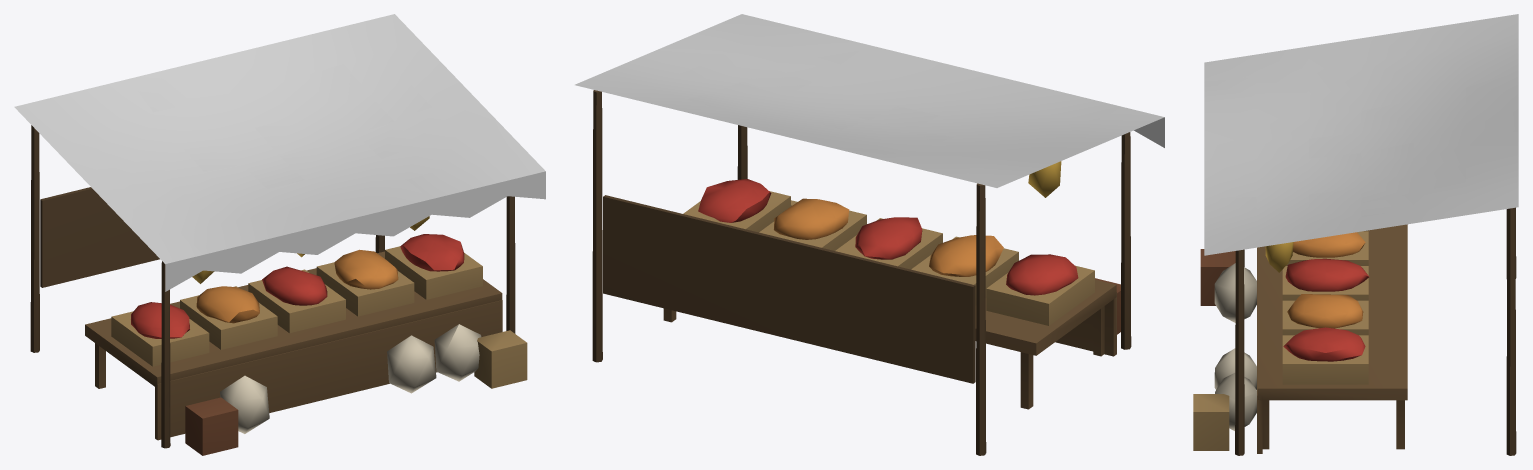
Rendered from oriental.glb.
The picture shows the model from 3 angles, left to right: view 1: azimuth 30°, elevation 25°; view 2: azimuth 150°, elevation 25°; view 3: azimuth 270°, elevation 25°; orthographic projection. The views are drawn at different scales.
Parts seen in each view (by area): view 1: lona-tinted, chinamo-wood, chinamo-crate, chinamo-wood-dark, goods-fff2d6, goods-d9473b, goods-f39c4a, goods-8e5a3c; view 2: lona-tinted, chinamo-wood-dark, chinamo-crate, goods-d9473b, chinamo-wood, goods-f39c4a, goods-f2c14e; view 3: lona-tinted, chinamo-wood, chinamo-crate, chinamo-wood-dark, goods-d9473b, goods-f39c4a, goods-fff2d6, goods-8e5a3c, goods-f2c14e.
Boxes of the visible parts, x1=… form: lona-tinted: x1=14, y1=14, x2=545, y2=291; chinamo-wood: x1=85, y1=251, x2=502, y2=440; chinamo-crate: x1=111, y1=246, x2=527, y2=388; chinamo-wood-dark: x1=30, y1=125, x2=515, y2=448; goods-fff2d6: x1=220, y1=324, x2=481, y2=433; goods-d9473b: x1=131, y1=234, x2=464, y2=338; goods-f39c4a: x1=196, y1=249, x2=398, y2=323; goods-8e5a3c: x1=185, y1=397, x2=238, y2=455; lona-tinted: x1=575, y1=14, x2=1164, y2=187; chinamo-wood-dark: x1=592, y1=90, x2=1131, y2=455; chinamo-crate: x1=683, y1=191, x2=1094, y2=325; goods-d9473b: x1=698, y1=179, x2=1078, y2=295; chinamo-wood: x1=663, y1=205, x2=1116, y2=409; goods-f39c4a: x1=774, y1=198, x2=1003, y2=276; goods-f2c14e: x1=1028, y1=161, x2=1061, y2=197; lona-tinted: x1=1204, y1=14, x2=1518, y2=255; chinamo-wood: x1=1257, y1=224, x2=1407, y2=453; chinamo-crate: x1=1193, y1=230, x2=1368, y2=450; chinamo-wood-dark: x1=1235, y1=207, x2=1516, y2=455; goods-d9473b: x1=1283, y1=258, x2=1369, y2=361; goods-f39c4a: x1=1287, y1=232, x2=1365, y2=328; goods-fff2d6: x1=1214, y1=263, x2=1256, y2=430; goods-8e5a3c: x1=1200, y1=249, x2=1235, y2=305; goods-f2c14e: x1=1265, y1=242, x2=1293, y2=272.
Bounding box in the file's own units: 6.4 × 4.04 × 4.55.
